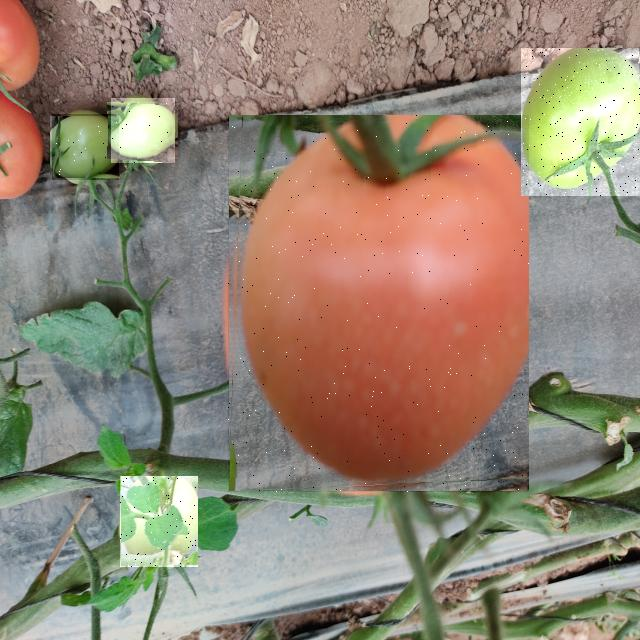Ripe Tomato: (228, 115, 529, 492)
Unripe Tomato: (521, 48, 640, 196), (120, 476, 198, 567), (52, 114, 119, 180), (111, 98, 175, 163)
